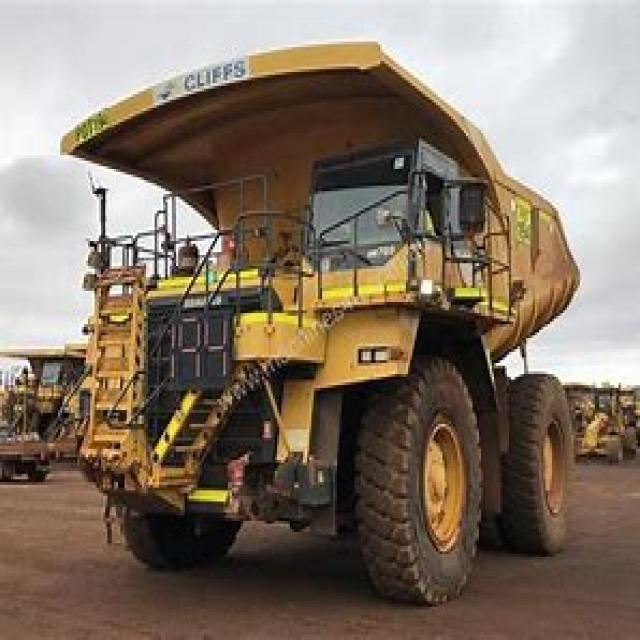dump_truck: (43, 33, 584, 607)
